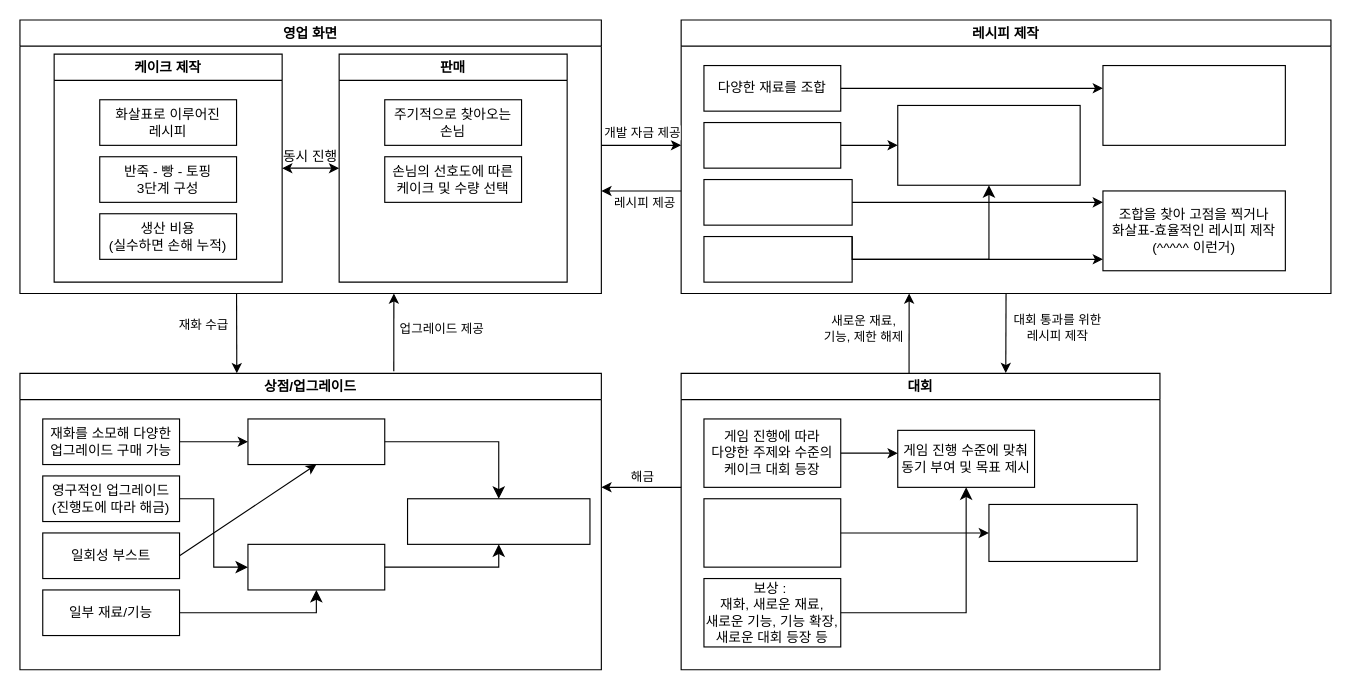
Image size: 1351x690. Some labels were removed from this diagram. Each missing label, with the centre of its shape:
"게임 진행에 따라 더 많은 재료 해금" belongs at pixel 772 144.
"다양한 레시피 제작 유도 (게임 경험 다각화)" belongs at pixel 1062 532.
"많고 좋은 재료 = 복잡한 레시피(화살표) = 게임 진행에 따라 난이도 조절" belongs at pixel 988 144.
"성장 요소 제공" belongs at pixel 316 566.
"재료 순서/개수 조절해 원하는 화살표 유도 가능" belongs at pixel 777 258.
"재료의 조합(콤보)에 따른 긍정적/부정적 효과" belongs at pixel 777 201.
"재화 소모처 제공" belongs at pixel 316 441.
"진행도에 따른 성장 가시화 재화 획득 동기 제공" belongs at pixel 498 521.
"투입한 재료에 따른 외견 변화 = 상상만 하던 케이크 제작 가능 와사비만 5개 넣은 케이크 등" belongs at pixel 1193 104.
"특정 재료 요구 특정 스탯이 기준 이상 전체적으로 높은 스탯 등등 다양한 기준" belongs at pixel 772 532.
